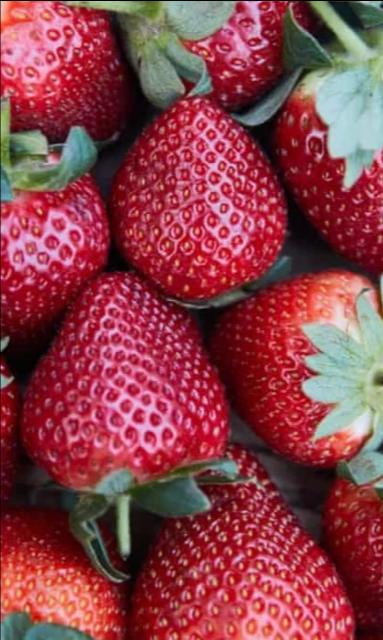Strawberries: (24, 273, 226, 493), (138, 450, 354, 640), (114, 92, 284, 302), (223, 268, 383, 464), (274, 6, 383, 264), (1, 132, 106, 326), (123, 0, 312, 101), (0, 0, 124, 144), (0, 506, 130, 640)
